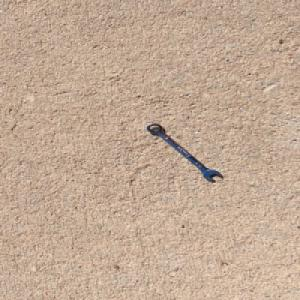Wrench: (144, 122, 224, 182)
